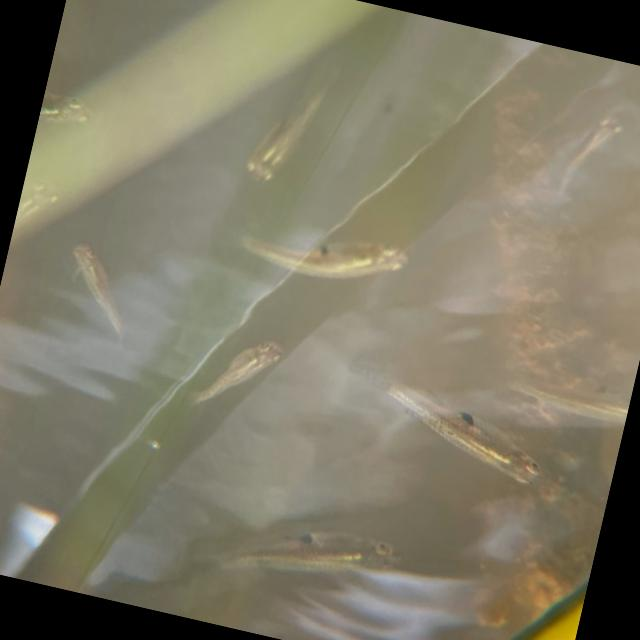Sivrisinek Baligi: (324, 342, 552, 493), (214, 500, 397, 611), (228, 49, 346, 208), (235, 206, 412, 300), (47, 232, 155, 357), (188, 313, 290, 427)
